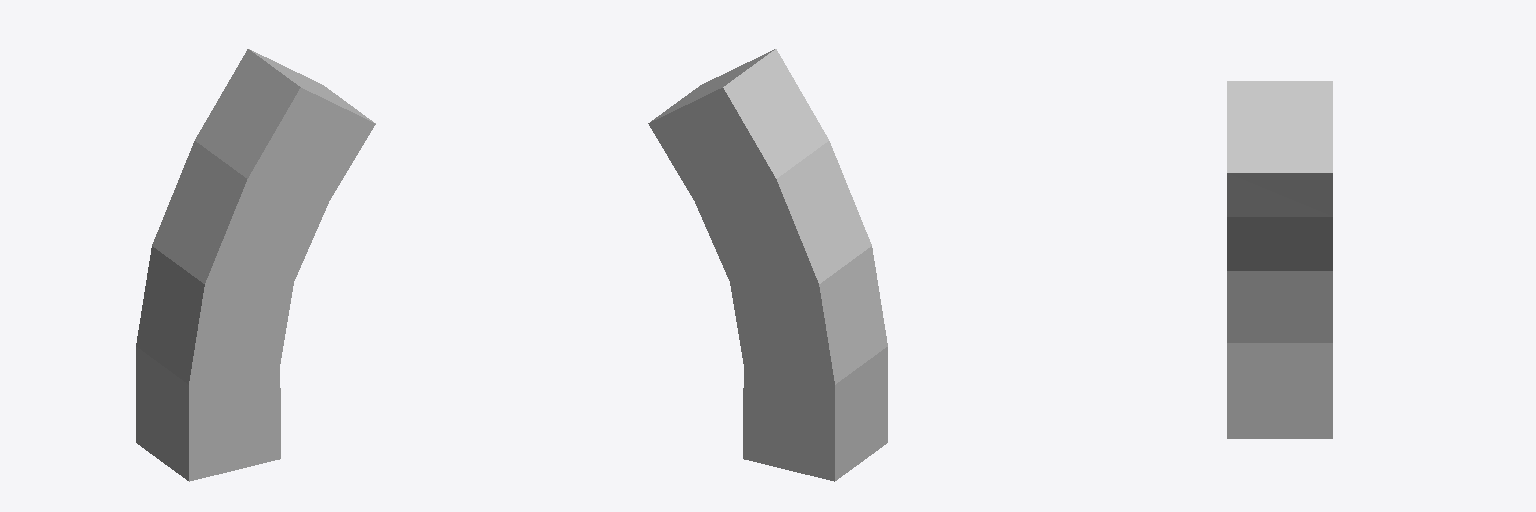
File: Animation_000007.obj
3 views of the same model, side by side, from view 1: azimuth 30°, elevation 25°; view 2: azimuth 150°, elevation 25°; view 3: azimuth 270°, elevation 25° (orthographic).
Parts seen in each view (by area): view 1: Cube; view 2: Cube; view 3: Cube.
Part boxes in pixels (bbox=[...]): Cube: bbox=[136, 49, 375, 481]; Cube: bbox=[648, 49, 887, 481]; Cube: bbox=[1227, 81, 1332, 438].
Size of the model in its own units: 2.72 by 5.09 by 1.33.